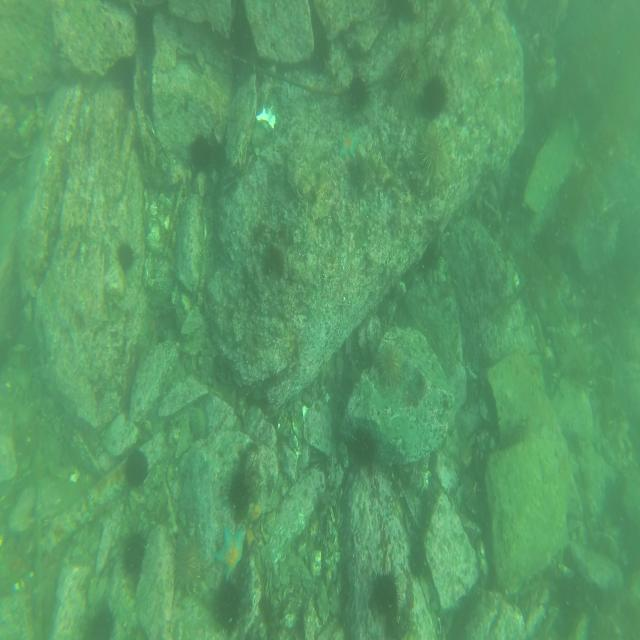echinus: (416, 120, 452, 188), (170, 538, 206, 598), (421, 68, 455, 122), (368, 567, 402, 620), (118, 526, 151, 578), (376, 332, 406, 388), (222, 474, 253, 525), (122, 444, 154, 493), (82, 599, 118, 640), (344, 66, 374, 114), (186, 128, 212, 178), (392, 41, 423, 81), (115, 237, 141, 281)
scallop: (255, 102, 276, 134)
starfish: (215, 520, 249, 586), (337, 128, 363, 161)
